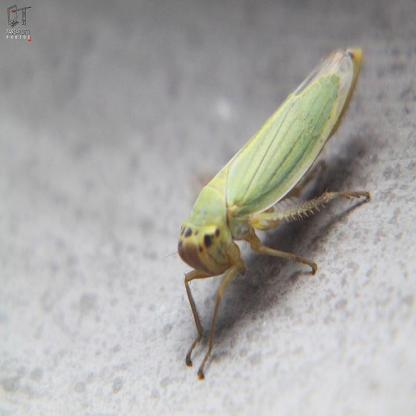Green-Leafhopper: (172, 42, 380, 384)
